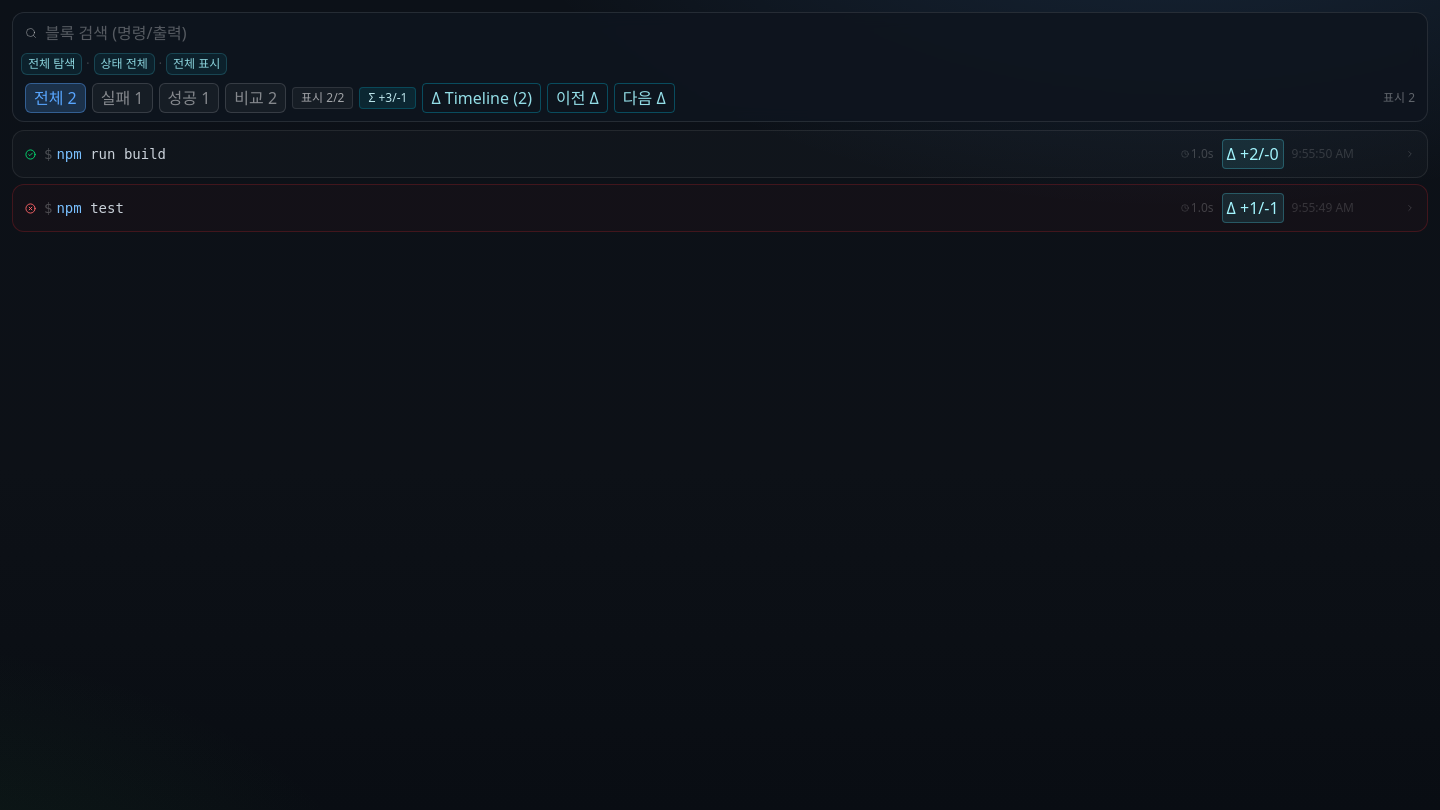
Test: WarpListView delta actions › Δ Timeline에서 Jump로 해당 비교 팝오버를 연다
Click the button "Δ Timeline (2)" at x=482, y=98, box [422, 83, 541, 113]
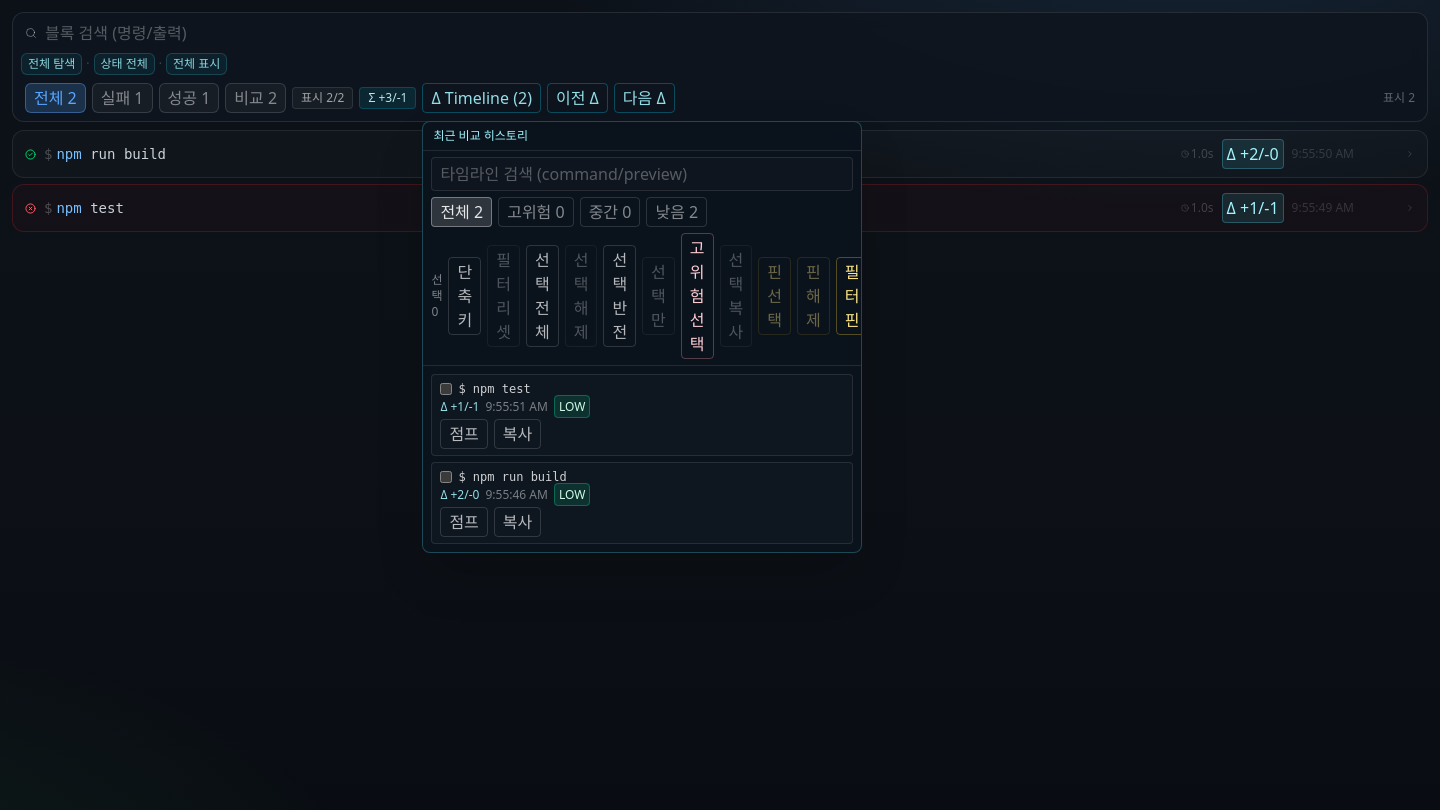
Check: the text "최근 비교 히스토리" is shown, box [423, 122, 861, 151]
Click the button "점프" below "9:55:51 AM" at x=464, y=434, box [440, 419, 488, 449]
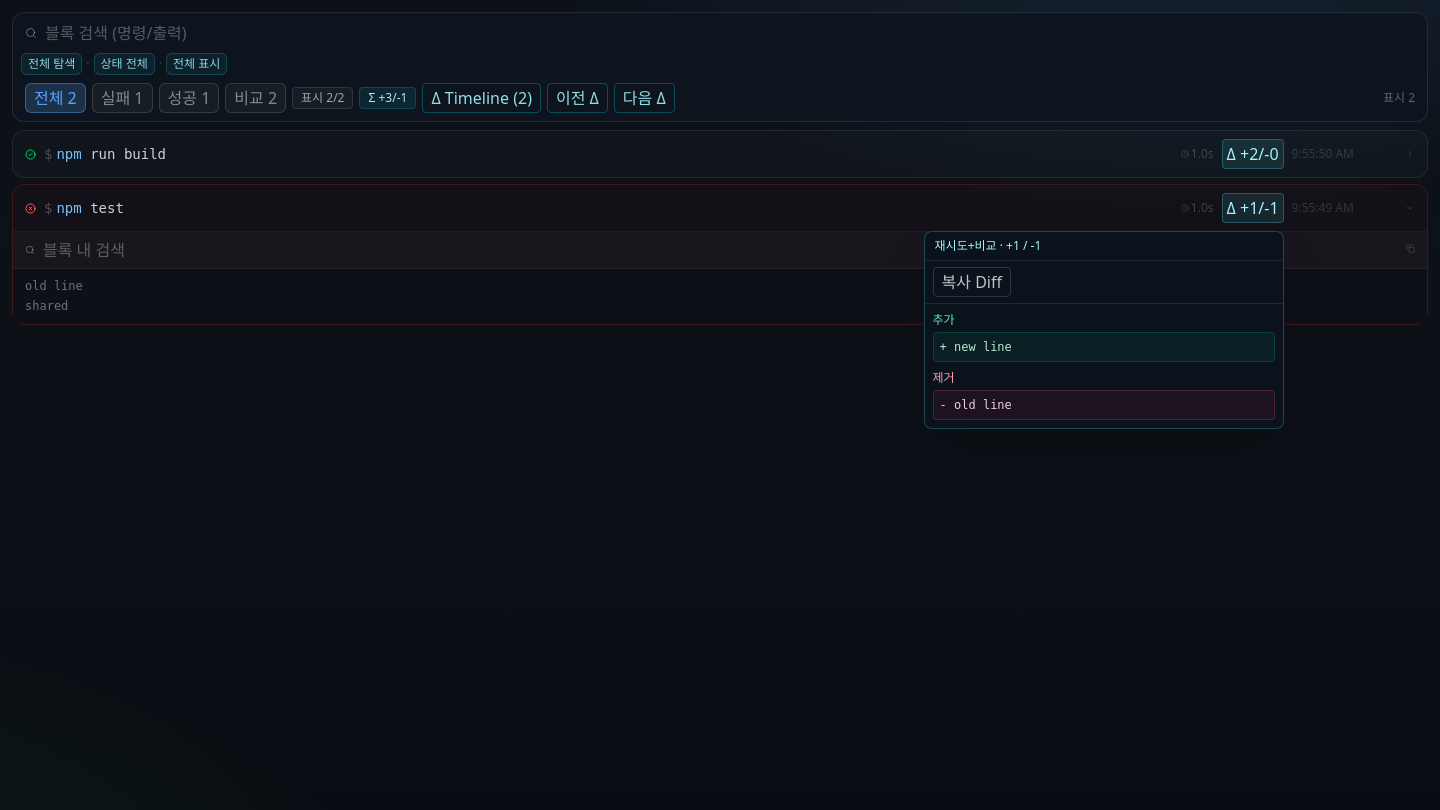
Check: the text "재시도+비교 · +1 / -1" is shown, box [925, 232, 1283, 261]
